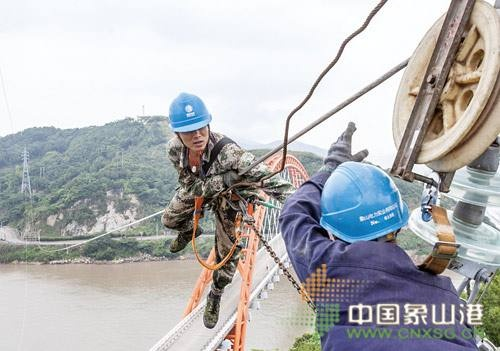blue: (318, 160, 406, 252), (168, 91, 214, 150)
